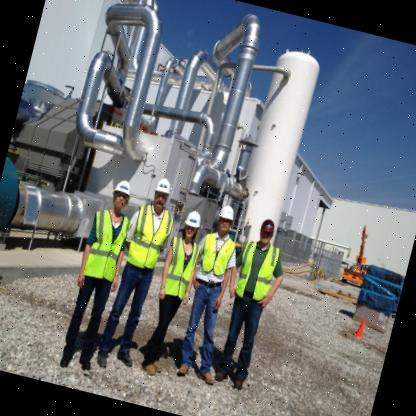capacete: (111, 176, 138, 202), (180, 207, 206, 233), (214, 202, 239, 229), (150, 176, 176, 198)
oculos: (112, 190, 131, 202), (152, 191, 170, 201), (183, 224, 199, 232)
